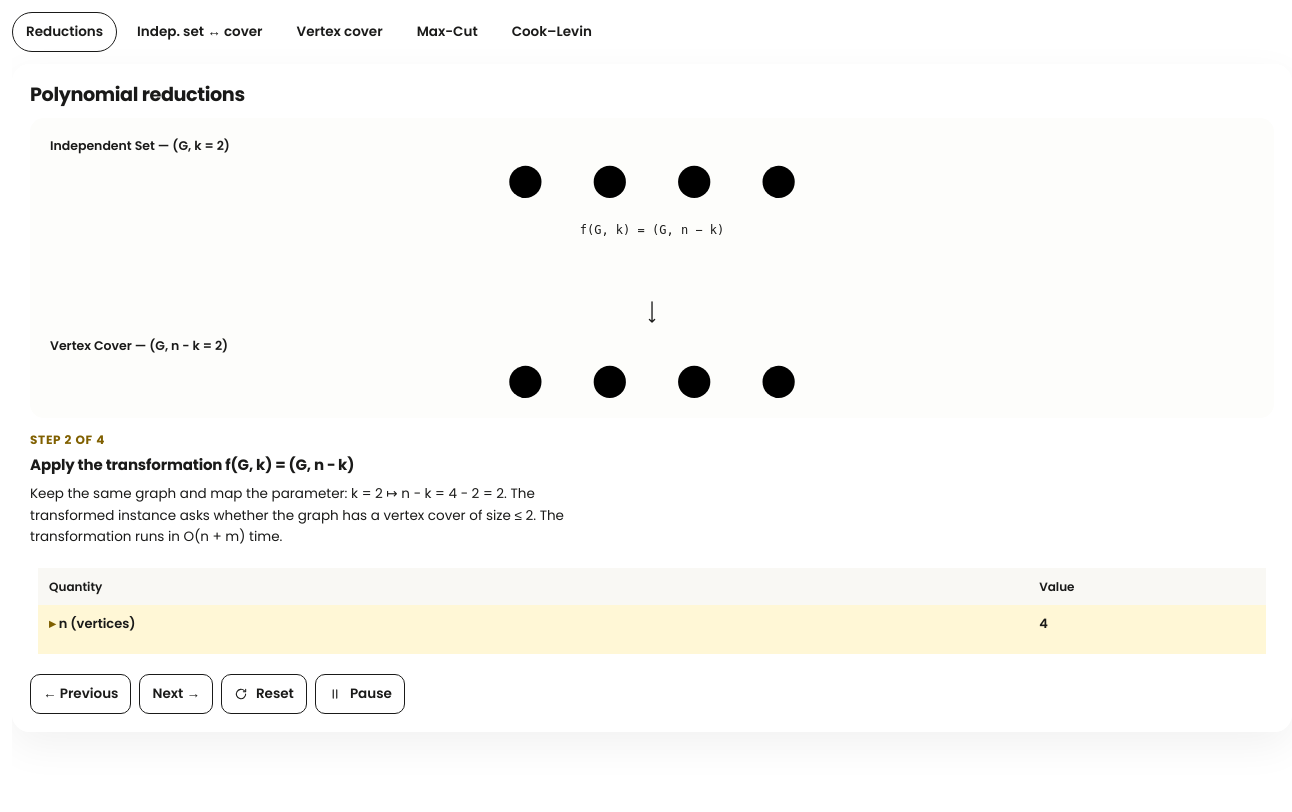
it: AlgoScene › auto-advances on a deterministic timer and can be paused
Expected: the text "Step 2 of 4" is shown, [30,431,105,448]
Click the button "Pause": (360, 694) [315,674,405,714]
Wait 5000 ms
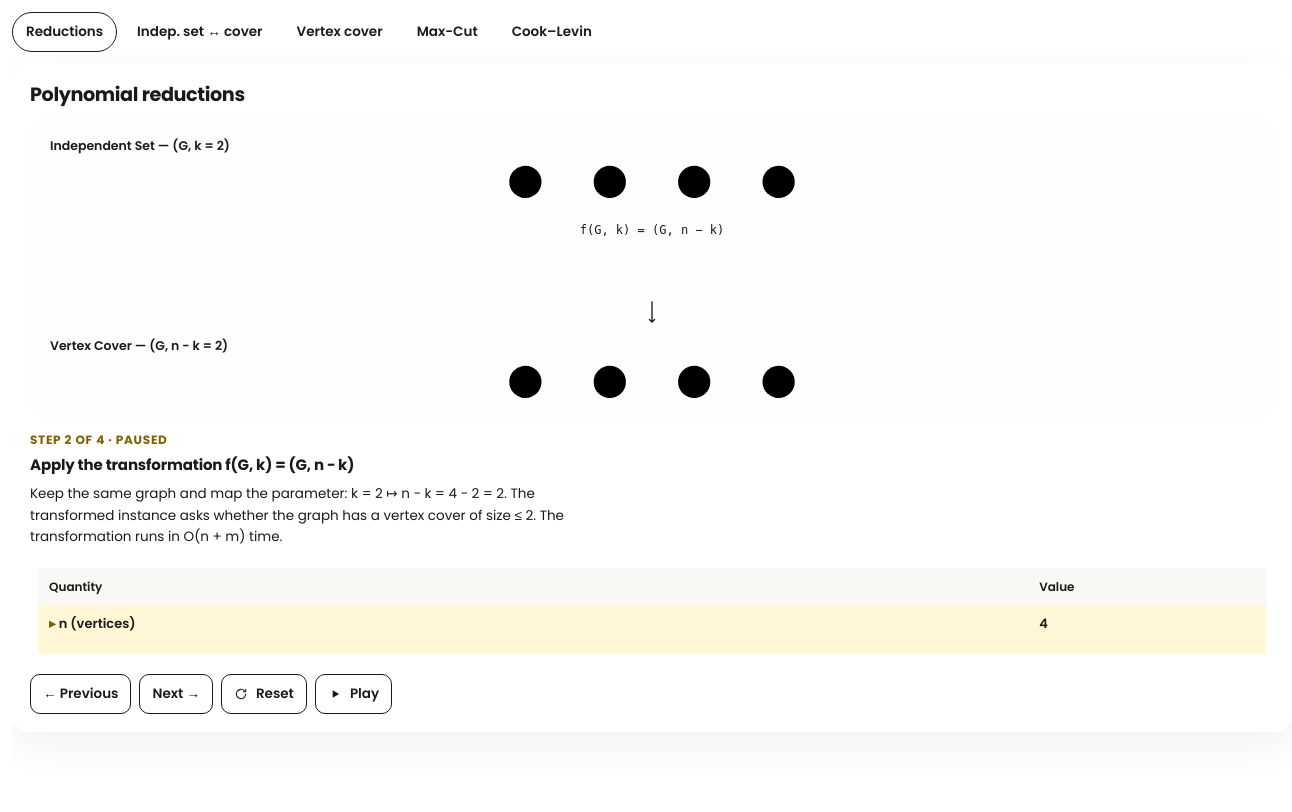
Expected: the text "Step 2 of 4 · paused" is shown, [30,431,168,448]
